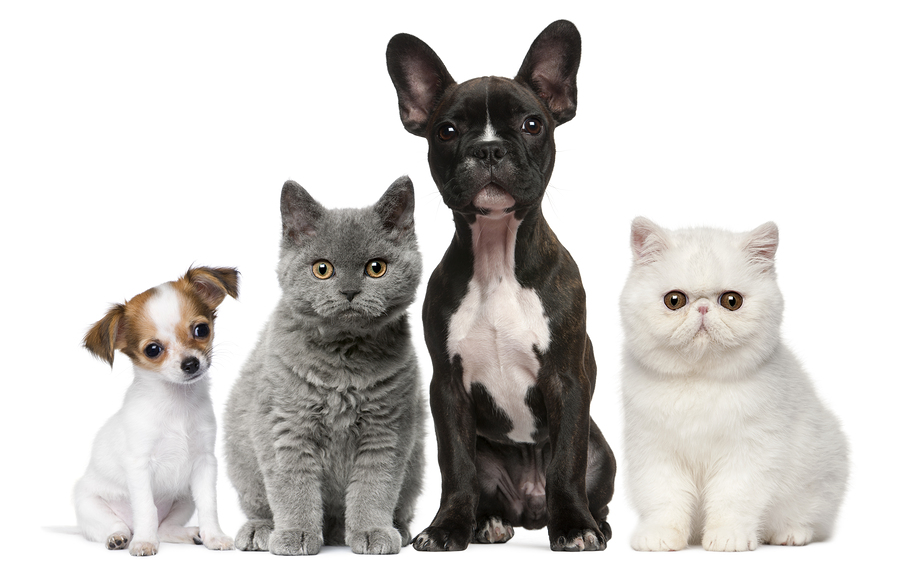cat: (618, 195, 869, 557), (233, 171, 434, 557)
dog: (383, 20, 621, 559), (70, 256, 237, 560)
